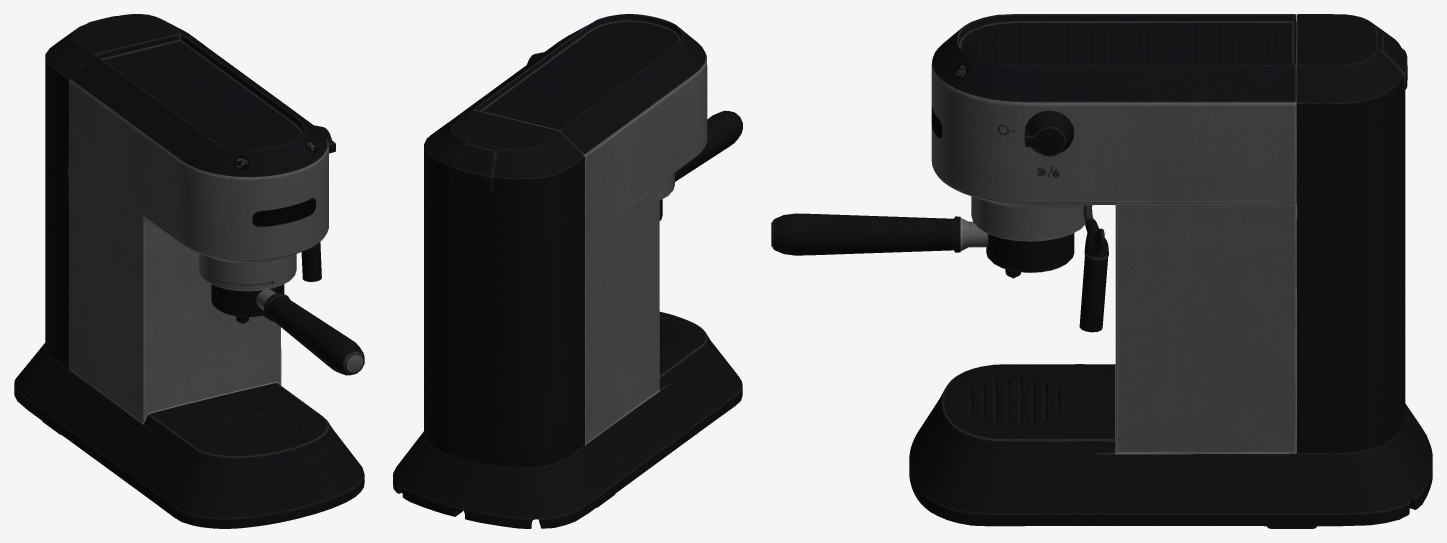
The model's file is CoffeeModel.glb.
The picture shows the model from 3 angles, left to right: view 1: azimuth 30°, elevation 25°; view 2: azimuth 150°, elevation 25°; view 3: azimuth 270°, elevation 25°; orthographic projection. The views are drawn at different scales.
Parts seen in each view (by area): view 1: node_id30; view 2: node_id30; view 3: node_id30.
Part boxes in pixels (bbox=[...]): node_id30: bbox=[14, 14, 364, 528]; node_id30: bbox=[393, 14, 742, 528]; node_id30: bbox=[771, 14, 1432, 528].
Size of the model in its own units: 0.2147 by 0.3737 by 0.512.
1 material, 1 textured.
